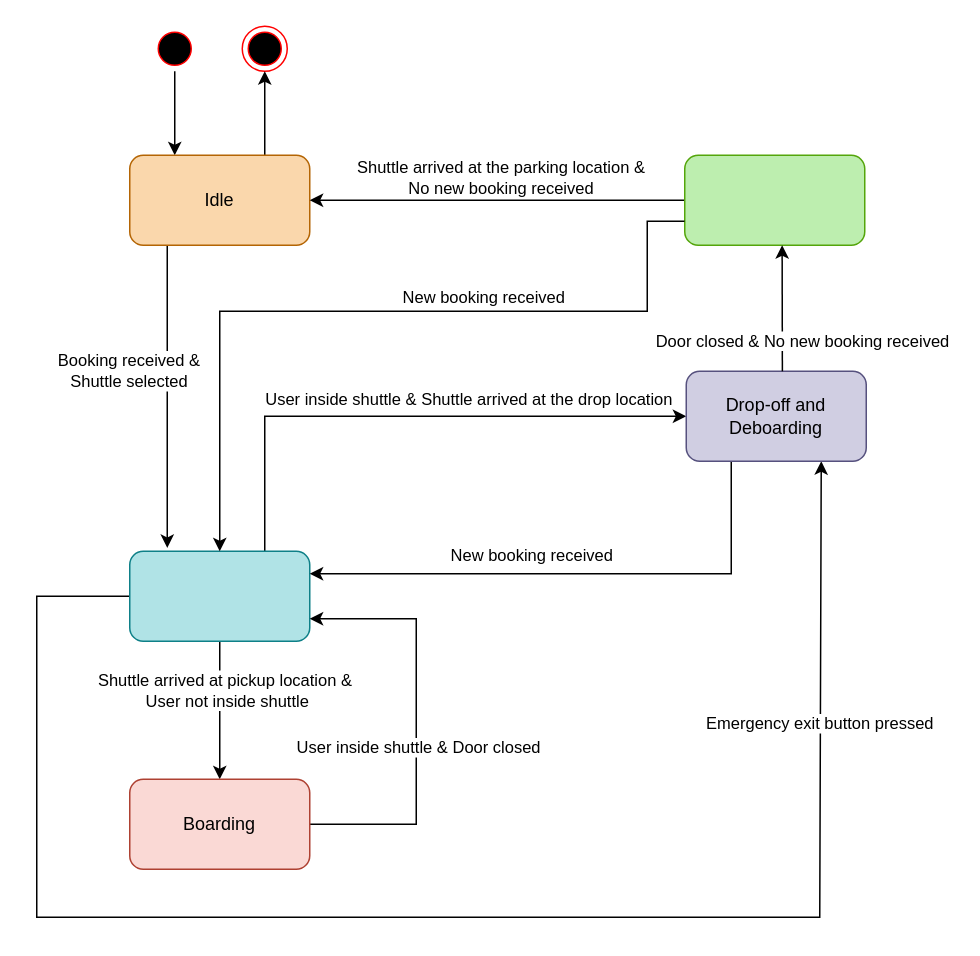
This 980x956 diagram has some shape labels left out. Here are the shapes that lost their labels. From the top down, the centre of each, then its label:
At pixel 774 199: "Parking".
At pixel 219 595: "Driving and Planning".
